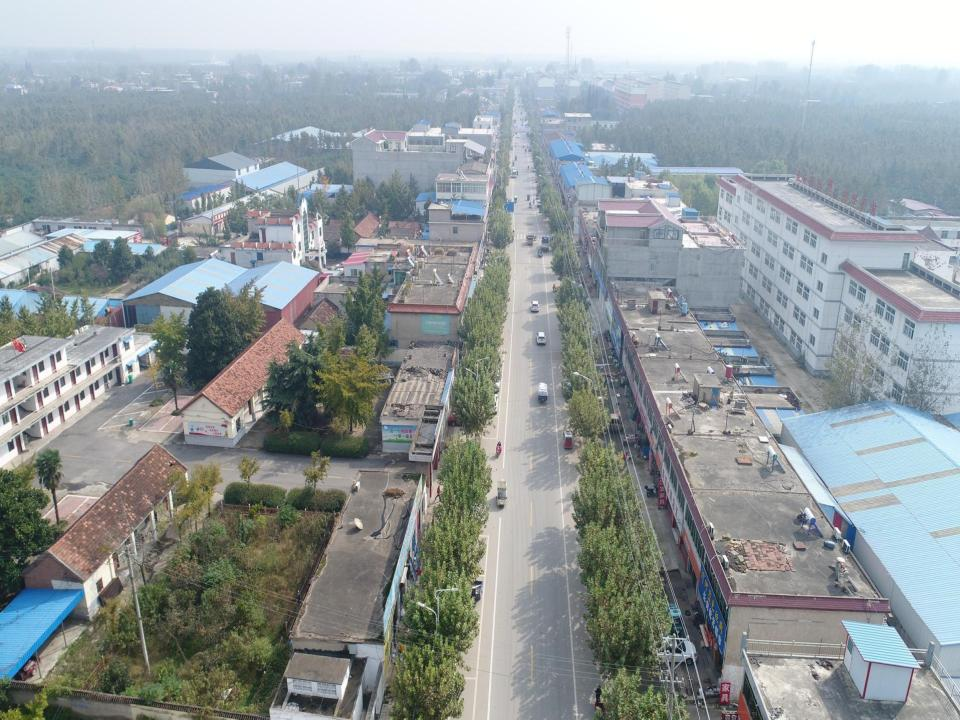car: (652, 636, 697, 666), (536, 332, 546, 346), (530, 300, 539, 312), (174, 243, 185, 251)
truck: (538, 381, 548, 403), (541, 236, 549, 253), (511, 168, 517, 179)
